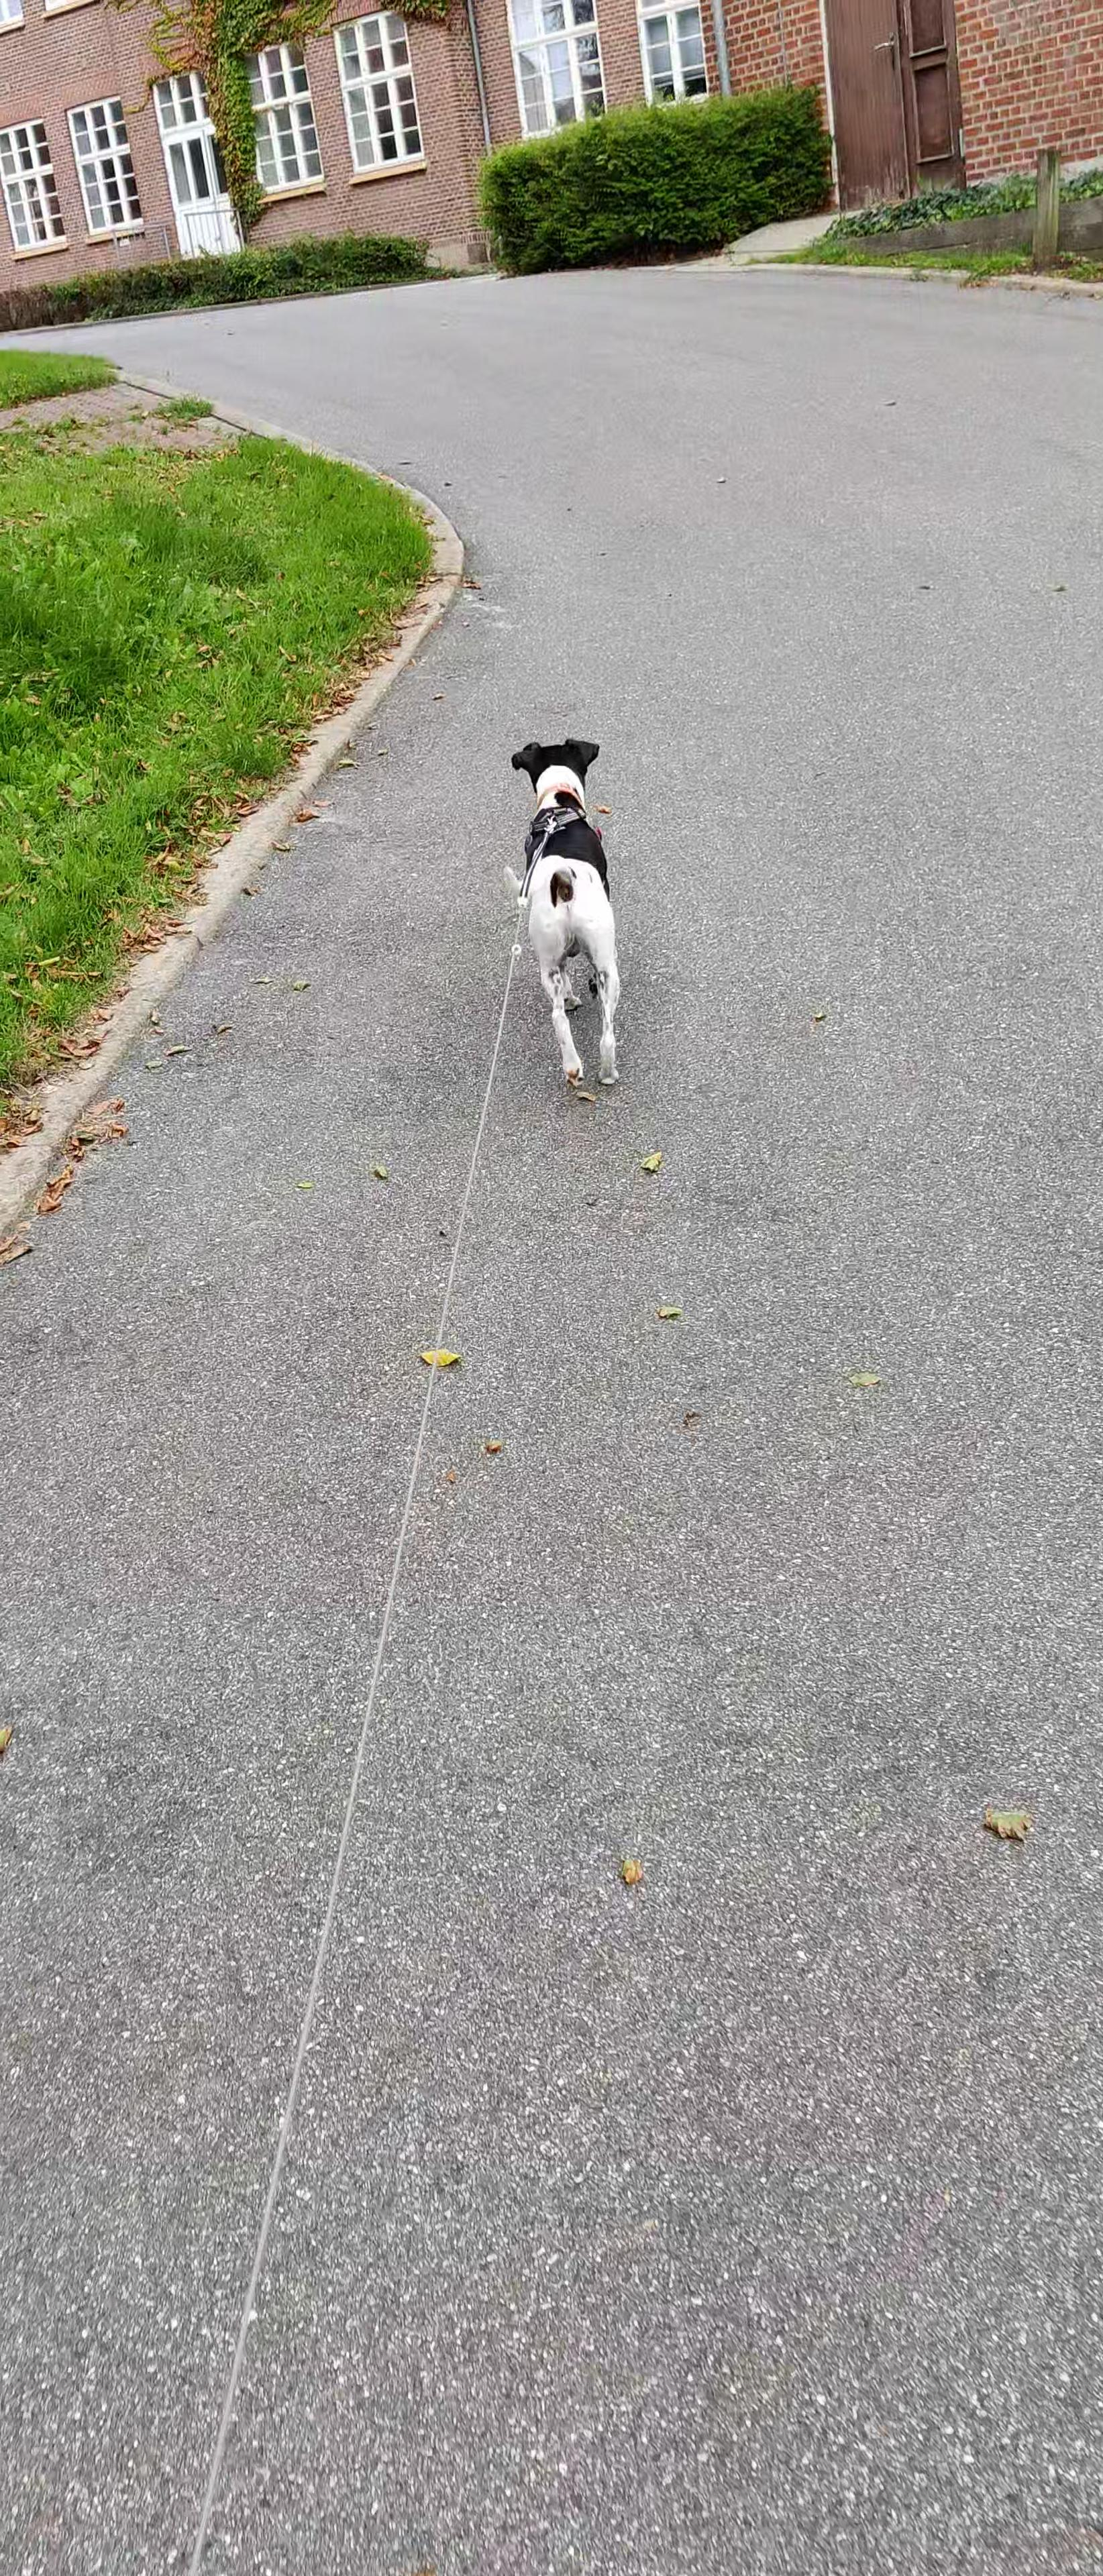Dog: (488, 716, 631, 1107)
